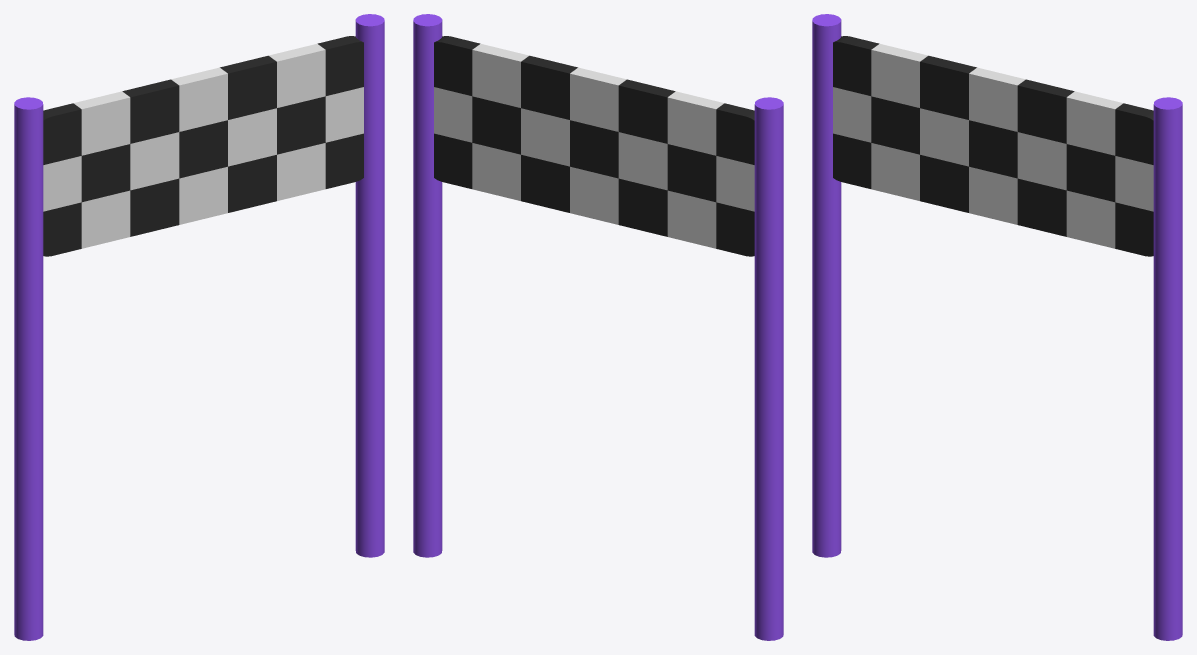
The model's file is Gate A Finish.fbx.
3 views of the same model, side by side, from view 1: azimuth 30°, elevation 25°; view 2: azimuth 150°, elevation 25°; view 3: azimuth 330°, elevation 25° (orthographic).
Visible parts, largest first — view 1: Gate A Finish, Gate A Finish.001, Gate A Finish.002; view 2: Gate A Finish, Gate A Finish.001, Gate A Finish.002; view 3: Gate A Finish, Gate A Finish.002, Gate A Finish.001.
Part boxes in pixels (left/top/right/bottom): Gate A Finish: left=43, top=36, right=363, bottom=256; Gate A Finish.001: left=14, top=97, right=43, bottom=640; Gate A Finish.002: left=355, top=14, right=384, bottom=557; Gate A Finish: left=434, top=36, right=754, bottom=256; Gate A Finish.001: left=754, top=97, right=783, bottom=640; Gate A Finish.002: left=413, top=14, right=442, bottom=557; Gate A Finish: left=833, top=36, right=1153, bottom=256; Gate A Finish.002: left=1153, top=97, right=1182, bottom=640; Gate A Finish.001: left=812, top=14, right=841, bottom=557.
Size of the model in its own units: 308 by 427 by 21.39.
